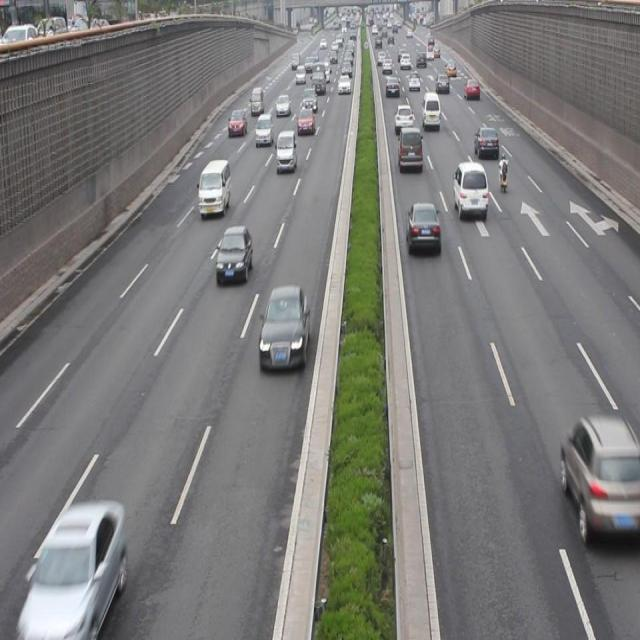car: (24, 500, 124, 640), (560, 417, 640, 545), (258, 286, 308, 371), (216, 226, 252, 281), (405, 201, 440, 254), (473, 124, 499, 159), (393, 103, 413, 133), (228, 107, 247, 137), (296, 106, 315, 135)
truck: (452, 160, 487, 218), (198, 159, 230, 216), (397, 125, 422, 170), (275, 130, 297, 171), (421, 91, 440, 127), (255, 113, 272, 147)
